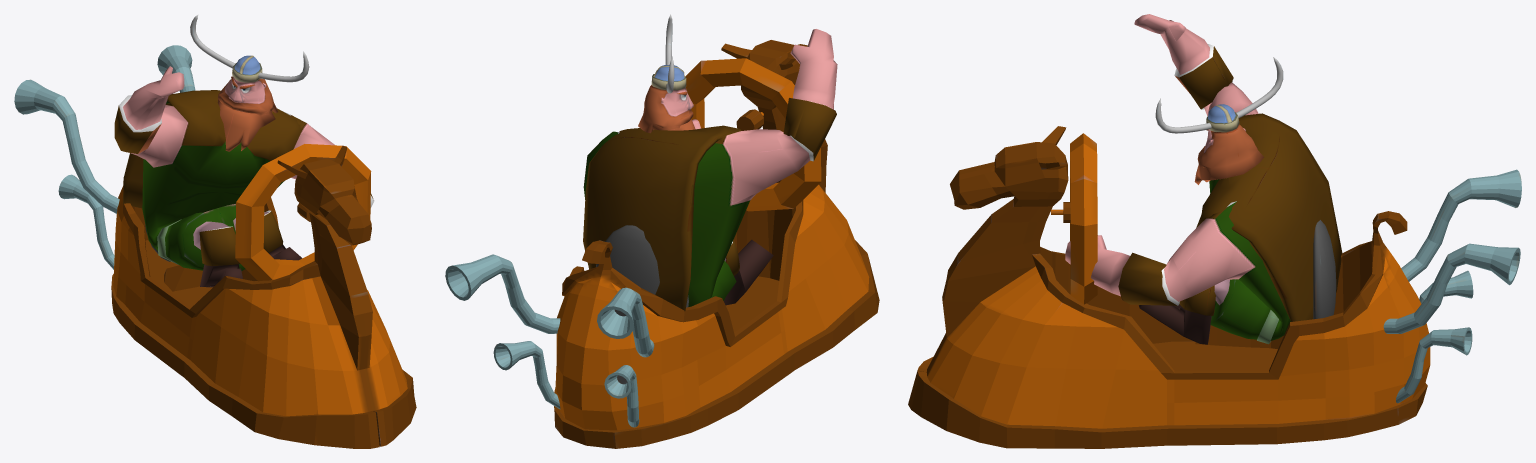
File: vikingoVacile_000466.obj
3 views of the same model, side by side, from view 1: azimuth 30°, elevation 25°; view 2: azimuth 150°, elevation 25°; view 3: azimuth 270°, elevation 25° (orthographic). The views are drawn at different scales.
Visible parts, largest first — view 1: kartVikingo, Vikingo; view 2: kartVikingo, Vikingo; view 3: kartVikingo, Vikingo.
Boxes of the visible parts, bbox=[...] form: kartVikingo: bbox=[14, 45, 416, 448]; Vikingo: bbox=[114, 14, 374, 287]; kartVikingo: bbox=[445, 40, 879, 448]; Vikingo: bbox=[583, 14, 837, 311]; kartVikingo: bbox=[908, 126, 1521, 448]; Vikingo: bbox=[1065, 14, 1342, 344].
Size of the model in its own units: 4.81 by 6.39 by 10.31.
2 materials, 2 textured.
